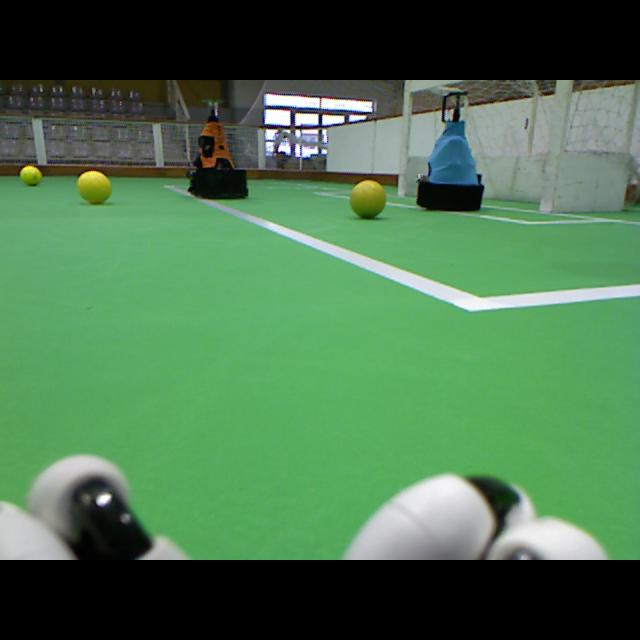ball: (350, 181, 386, 216), (78, 170, 111, 202), (20, 166, 41, 185)
goal: (539, 82, 569, 215), (396, 81, 413, 196)
robot: (184, 99, 249, 198)
